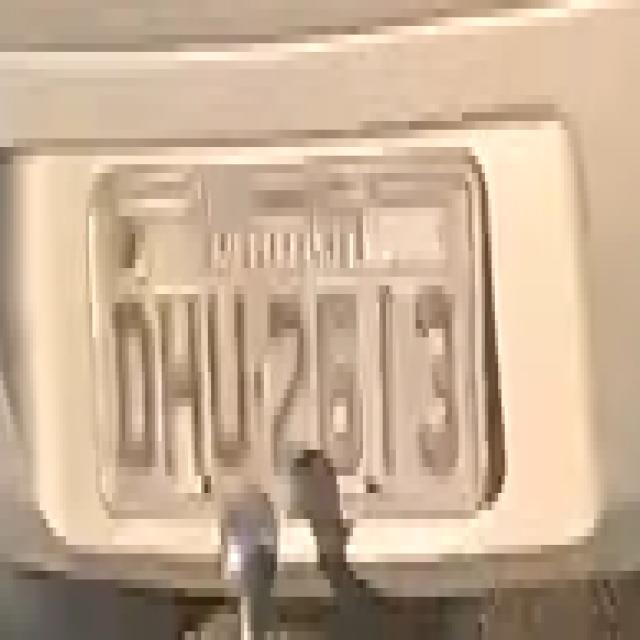Placa_mercosul_carro: (89, 150, 486, 513)
